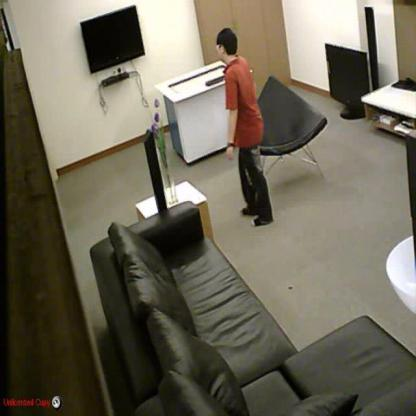Person: (216, 27, 273, 228)
